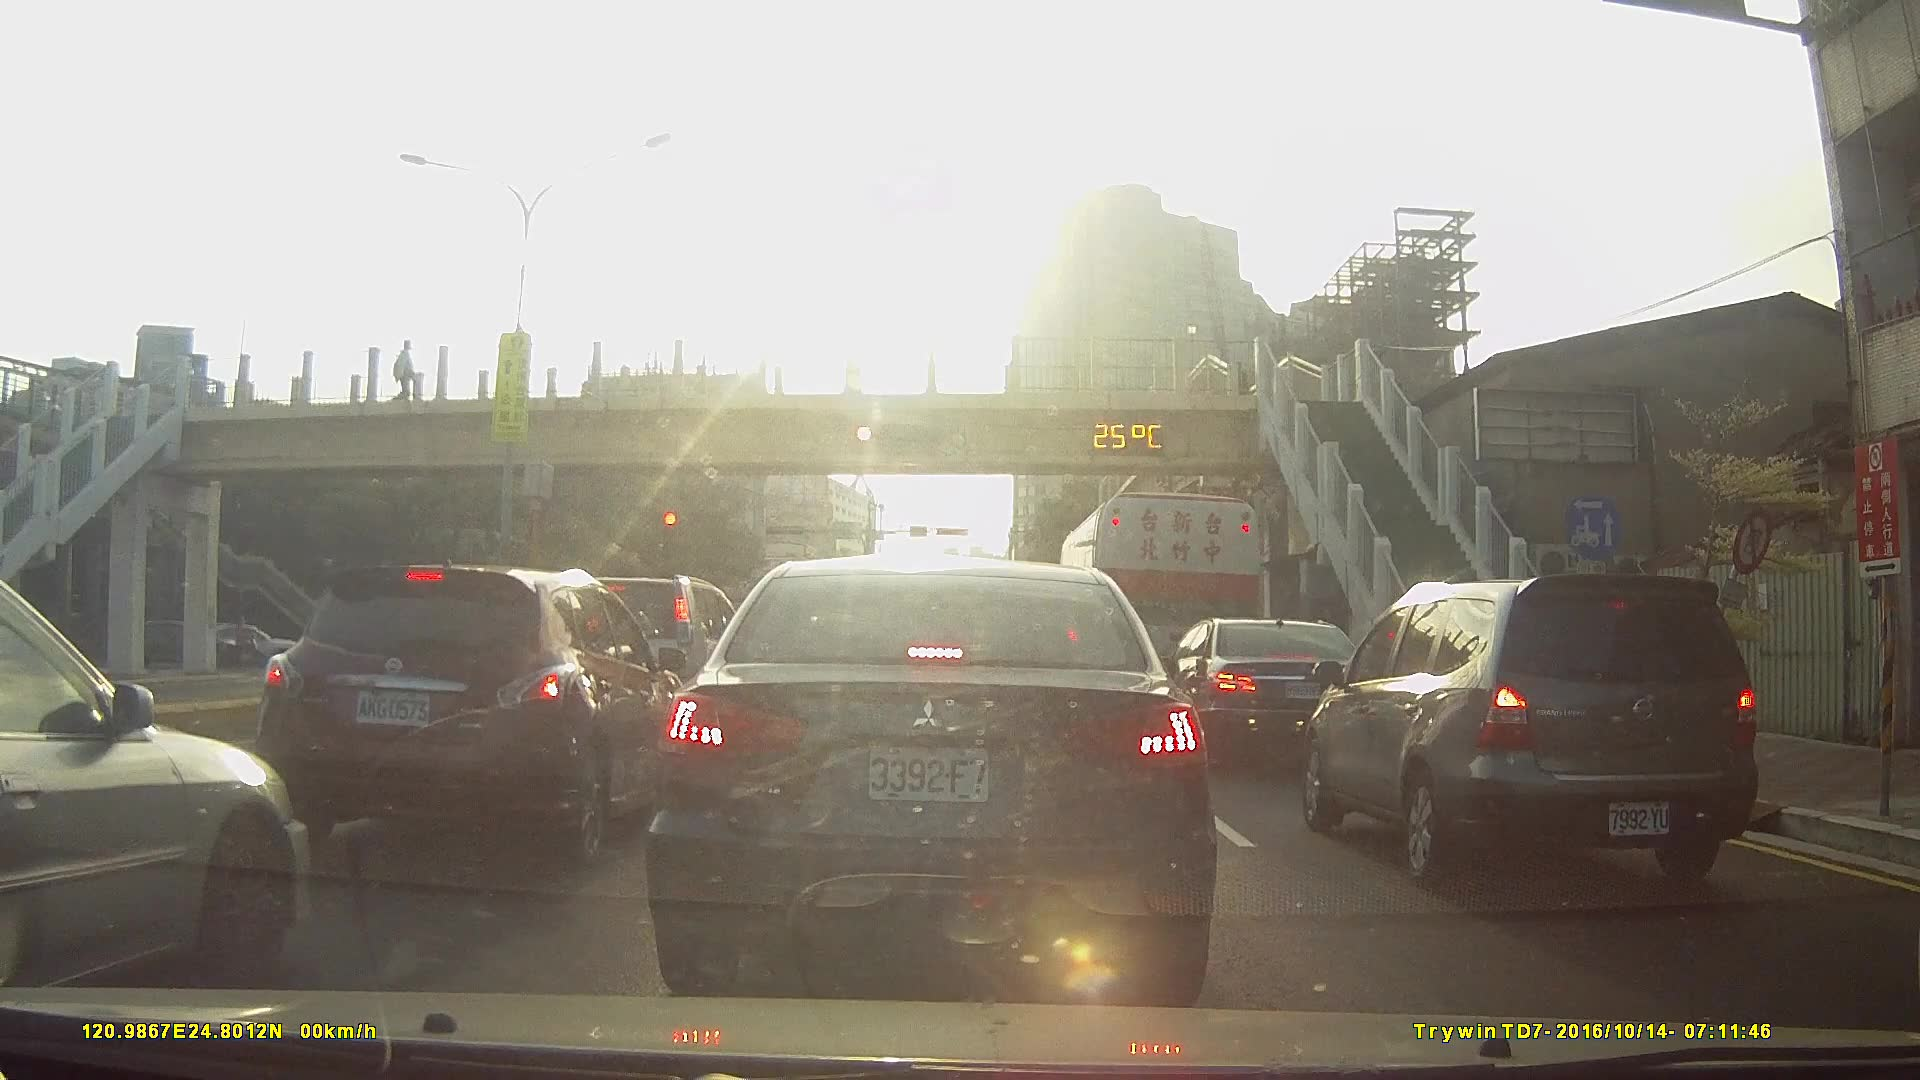pedestrian: (396, 343, 417, 408)
rider: (205, 610, 274, 673)
vehicle: (644, 554, 1218, 1014), (1300, 572, 1758, 892), (255, 561, 687, 868), (0, 578, 313, 991), (1155, 616, 1369, 770)
